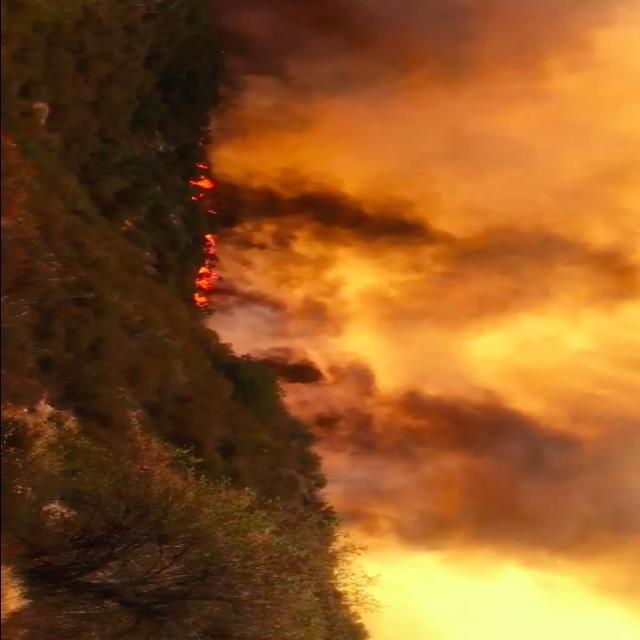Fire: (156, 140, 260, 332)
